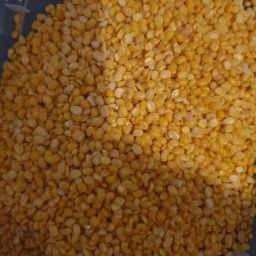Red Split Lentils(malka masar): (16, 7, 195, 240), (31, 86, 218, 256), (61, 22, 256, 174)
